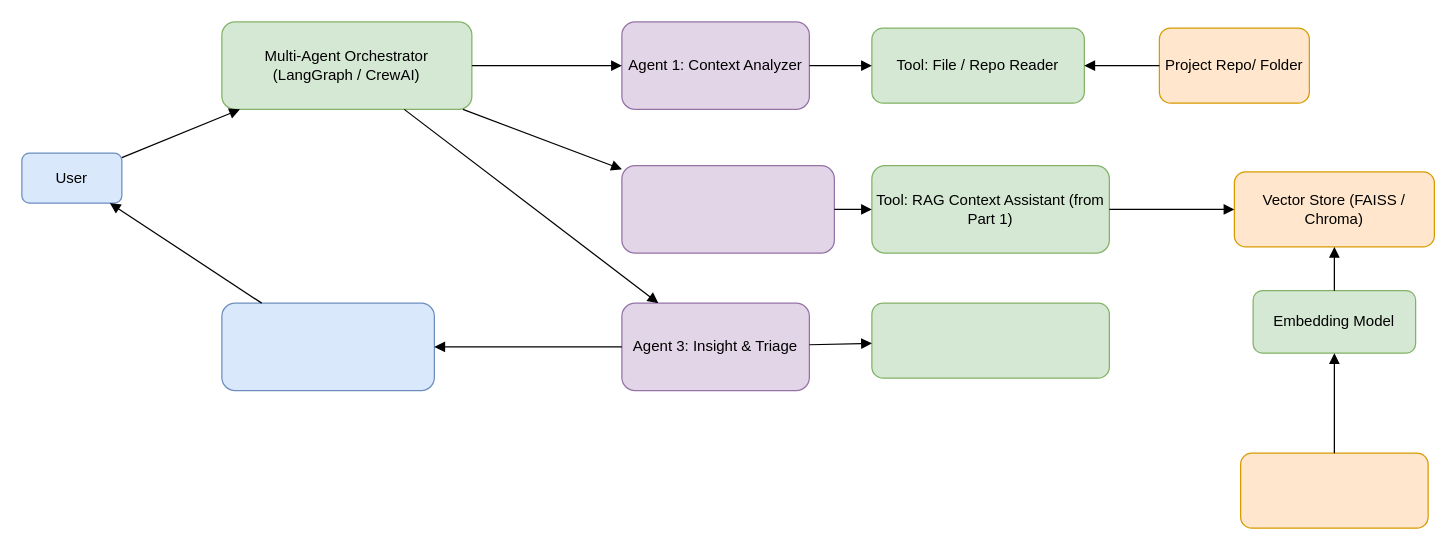
This 1456x550 diagram has some shape labels left out. The shapes that lost their labels are listed below. From the top down, each one's centre as x and y in pixels, then its label:
At (727,208): "Agent 2: Documentation Reviewer".
At (327,346): "ProjectQ Insight Report".
At (990,340): "Tool: Keyword / Tag Extractor".
At (1333,490): "Project Docs & Files".
